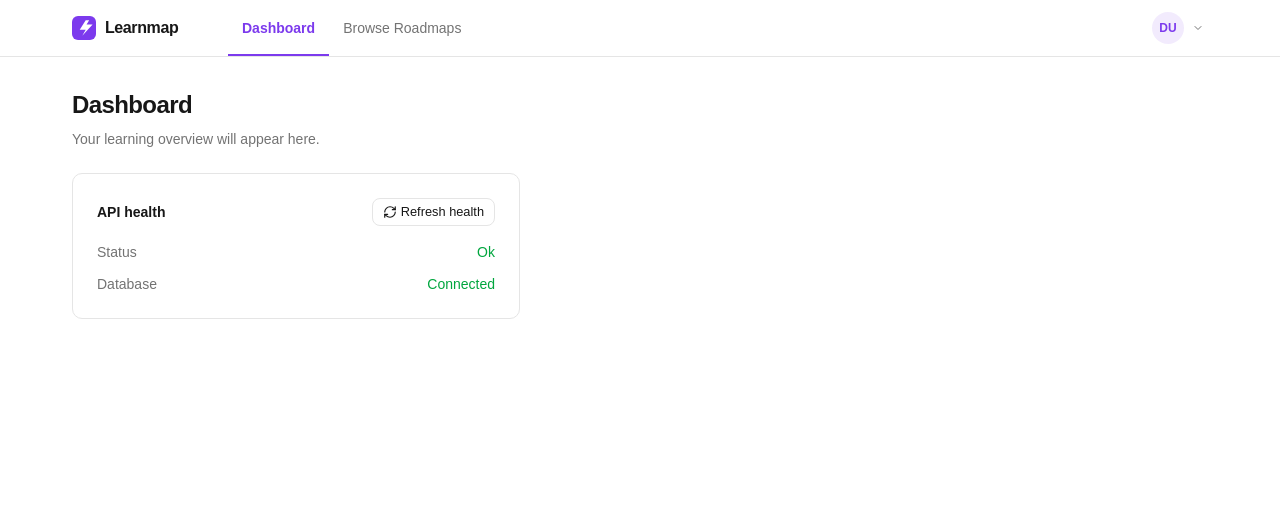
Test: App › does not unmount the shell when navigating between shell routes
Check: the heading "Dashboard" is shown, box top-left (72, 91), bottom-right (192, 118)
Click the link "Browse Roadmaps" at [402, 28], box top-left (343, 20), bottom-right (461, 36)
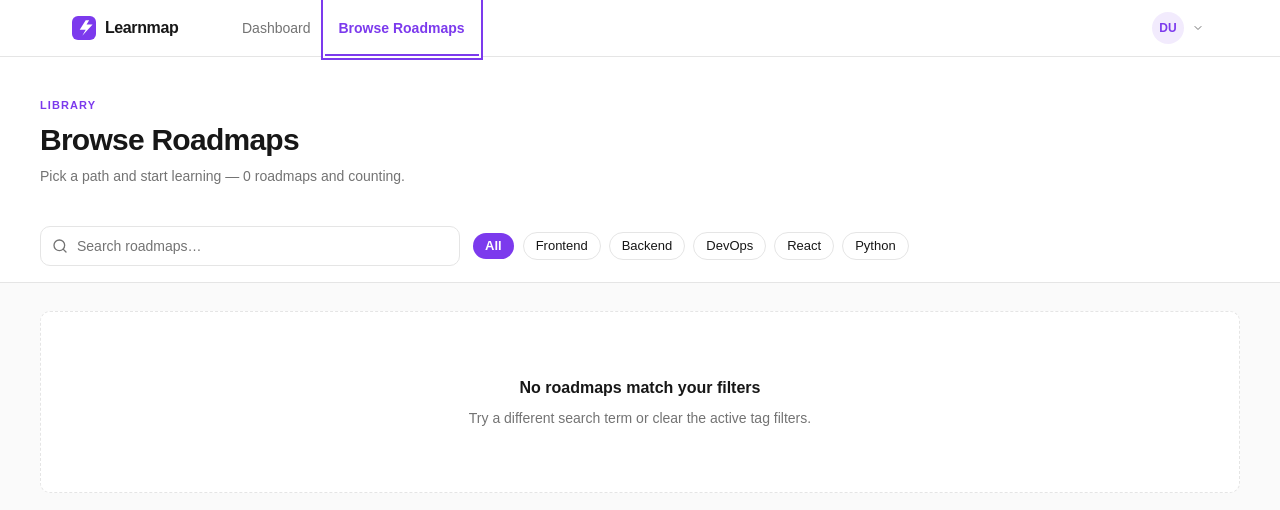
Check: the heading "Browse Roadmaps" is shown, box top-left (40, 122), bottom-right (299, 156)
